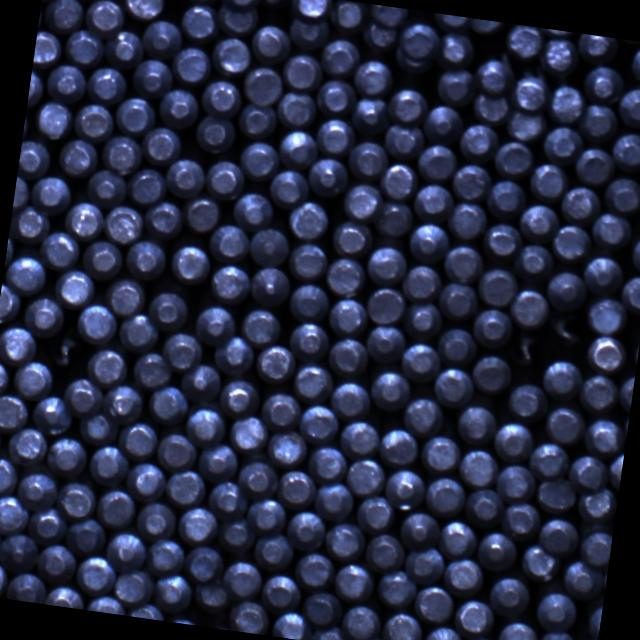tool: (368, 368, 414, 414), (100, 380, 146, 426), (135, 498, 180, 544), (486, 572, 531, 618), (158, 329, 204, 374), (384, 464, 429, 510), (183, 405, 229, 450), (46, 434, 91, 480), (400, 393, 446, 438), (212, 332, 258, 377), (192, 301, 238, 346), (5, 252, 50, 297), (476, 529, 521, 574), (124, 238, 169, 283), (462, 486, 507, 531), (535, 588, 580, 633), (103, 528, 148, 573), (101, 26, 146, 71), (129, 55, 174, 100), (364, 531, 410, 575), (424, 472, 468, 518), (232, 189, 278, 233), (332, 560, 378, 604), (126, 458, 170, 504), (22, 294, 68, 338), (86, 344, 130, 390), (402, 542, 448, 586), (204, 157, 248, 203), (492, 418, 536, 464), (146, 288, 192, 332), (168, 242, 212, 288), (540, 357, 584, 403), (276, 126, 320, 172), (32, 392, 78, 436), (206, 479, 252, 523), (16, 468, 61, 512), (163, 154, 207, 199), (247, 225, 292, 269), (432, 363, 476, 408), (118, 310, 162, 355), (76, 302, 121, 346), (493, 461, 538, 505), (11, 358, 56, 402), (398, 508, 443, 552), (544, 403, 589, 447), (44, 61, 89, 105), (146, 382, 191, 426), (561, 556, 606, 600), (207, 260, 252, 304), (198, 439, 242, 484), (229, 413, 273, 458), (238, 138, 282, 183), (376, 566, 421, 610), (408, 220, 453, 264), (260, 389, 304, 434), (89, 442, 132, 488), (112, 567, 158, 610), (37, 543, 81, 587), (118, 418, 162, 462), (95, 486, 139, 530), (38, 228, 82, 272), (30, 172, 74, 216), (102, 202, 146, 246), (276, 467, 320, 511), (114, 94, 158, 138), (76, 552, 120, 596), (242, 64, 286, 108), (85, 63, 129, 107), (140, 124, 184, 168), (308, 442, 352, 486), (508, 286, 552, 330), (442, 555, 486, 599), (81, 237, 125, 281), (73, 99, 117, 143), (58, 134, 102, 178), (156, 86, 200, 130), (208, 220, 252, 264), (286, 508, 330, 552), (454, 596, 498, 640), (324, 520, 368, 564), (582, 414, 626, 458), (250, 264, 294, 308), (218, 375, 262, 419), (104, 274, 148, 318), (260, 571, 304, 615), (267, 427, 311, 471), (291, 361, 335, 405), (545, 270, 589, 314), (194, 112, 238, 156), (364, 242, 408, 286), (236, 458, 280, 502), (347, 139, 391, 183), (505, 378, 549, 422), (582, 62, 626, 106), (140, 17, 183, 62), (179, 361, 224, 404), (564, 452, 610, 494), (535, 474, 581, 516), (102, 132, 145, 176), (154, 430, 198, 473), (438, 518, 482, 561), (414, 583, 458, 626), (286, 239, 330, 282), (152, 572, 195, 616), (63, 26, 107, 69), (86, 167, 130, 210), (249, 22, 292, 66), (240, 307, 284, 350), (420, 432, 464, 475), (378, 426, 422, 469), (528, 438, 572, 481), (132, 349, 176, 392), (328, 378, 372, 421), (578, 371, 622, 414), (501, 498, 544, 542), (268, 165, 312, 208), (308, 155, 351, 199), (520, 544, 564, 587), (558, 184, 602, 227), (198, 75, 242, 118), (254, 530, 297, 574), (486, 178, 529, 222), (442, 243, 486, 286), (592, 209, 636, 252), (518, 200, 562, 243), (286, 198, 331, 240), (536, 514, 581, 556), (416, 142, 461, 184), (472, 306, 514, 351), (346, 455, 389, 498), (471, 352, 514, 395), (124, 164, 167, 207), (314, 480, 357, 523), (458, 120, 501, 163), (373, 199, 416, 242), (0, 530, 42, 574), (6, 424, 50, 466), (26, 504, 70, 546), (164, 468, 208, 510), (67, 516, 111, 558), (54, 266, 96, 310), (586, 334, 630, 376), (294, 550, 338, 592), (183, 544, 227, 586), (400, 340, 442, 384), (339, 417, 383, 459), (318, 36, 360, 80), (572, 144, 616, 186), (286, 320, 330, 362), (582, 252, 624, 296), (216, 512, 258, 556), (576, 102, 620, 144), (298, 403, 340, 446), (55, 478, 98, 520), (146, 536, 189, 578), (177, 504, 220, 546), (458, 446, 500, 489), (477, 266, 520, 308), (223, 557, 266, 599), (255, 342, 298, 384), (343, 180, 385, 223), (141, 198, 184, 240), (9, 203, 52, 245), (576, 483, 618, 526), (456, 406, 499, 448), (527, 160, 570, 202), (64, 376, 107, 418), (181, 192, 223, 235), (386, 86, 429, 128), (542, 124, 584, 167), (423, 103, 465, 146), (413, 182, 456, 224), (212, 36, 255, 78), (540, 36, 582, 79), (435, 66, 477, 109), (192, 575, 235, 617), (436, 27, 478, 70), (83, 0, 127, 41), (274, 88, 318, 129), (246, 493, 290, 534), (280, 50, 324, 91), (396, 20, 441, 60), (402, 262, 444, 304), (32, 98, 74, 140), (355, 492, 397, 534), (365, 283, 407, 325), (288, 280, 330, 322), (324, 256, 366, 298), (328, 336, 370, 378), (452, 160, 494, 202), (170, 44, 212, 86), (178, 1, 220, 43), (494, 138, 536, 180), (438, 280, 480, 322), (365, 324, 407, 366), (447, 198, 489, 240), (512, 240, 554, 282), (402, 298, 444, 340), (584, 295, 627, 336), (551, 223, 594, 264), (316, 116, 357, 159), (381, 120, 425, 160), (65, 200, 106, 242), (546, 82, 587, 124), (379, 161, 420, 203), (482, 220, 524, 261), (510, 73, 552, 114), (474, 57, 516, 98), (301, 589, 345, 628), (314, 78, 355, 119), (328, 294, 370, 334), (352, 57, 394, 97), (236, 102, 278, 142), (77, 410, 120, 449), (0, 324, 38, 368), (226, 598, 270, 636), (504, 108, 548, 146), (331, 220, 372, 260), (601, 175, 640, 217), (339, 602, 382, 640), (434, 328, 475, 367), (470, 90, 511, 128), (502, 23, 544, 60), (217, 2, 260, 38), (41, 0, 84, 35), (17, 138, 52, 180), (288, 15, 332, 48), (8, 570, 50, 604), (576, 34, 620, 66), (0, 491, 31, 535), (382, 609, 426, 640), (580, 529, 614, 569), (610, 130, 640, 175), (271, 608, 313, 640), (0, 391, 31, 434), (330, 0, 369, 34), (33, 28, 64, 67), (362, 20, 398, 52), (46, 583, 88, 610), (396, 48, 432, 78), (616, 85, 640, 129), (121, 0, 167, 22), (495, 617, 539, 640), (370, 4, 409, 29), (0, 283, 23, 325), (88, 592, 128, 616), (584, 590, 604, 638), (290, 0, 331, 21), (616, 372, 636, 414), (620, 272, 640, 313), (468, 18, 511, 37), (606, 448, 625, 491), (127, 601, 167, 621), (0, 456, 19, 498), (27, 66, 46, 108), (422, 623, 466, 640), (12, 175, 32, 212), (432, 13, 473, 31), (313, 623, 355, 640), (628, 41, 640, 85), (536, 628, 580, 640), (4, 232, 17, 270), (0, 556, 12, 597), (217, 0, 261, 11), (0, 359, 11, 400), (630, 231, 640, 275), (259, 0, 293, 10), (353, 634, 395, 640)
tool_b: (544, 308, 587, 352), (506, 328, 546, 372), (46, 331, 85, 373)
